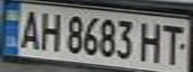3: (115, 17, 139, 61)
6: (78, 15, 100, 56)
8: (63, 12, 84, 55), (97, 16, 118, 58)
A: (15, 7, 45, 51)
H: (136, 19, 166, 63), (36, 9, 63, 52)
T: (157, 21, 190, 65)
